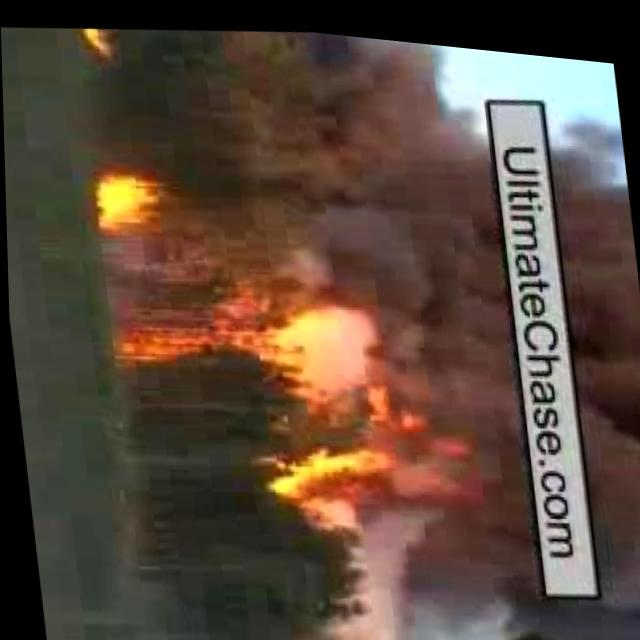fire: (259, 404, 443, 540), (106, 285, 266, 391), (85, 170, 158, 236), (74, 24, 118, 61)
